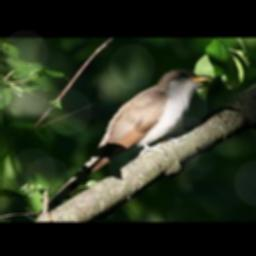Cuckoo: (39, 68, 212, 214)
